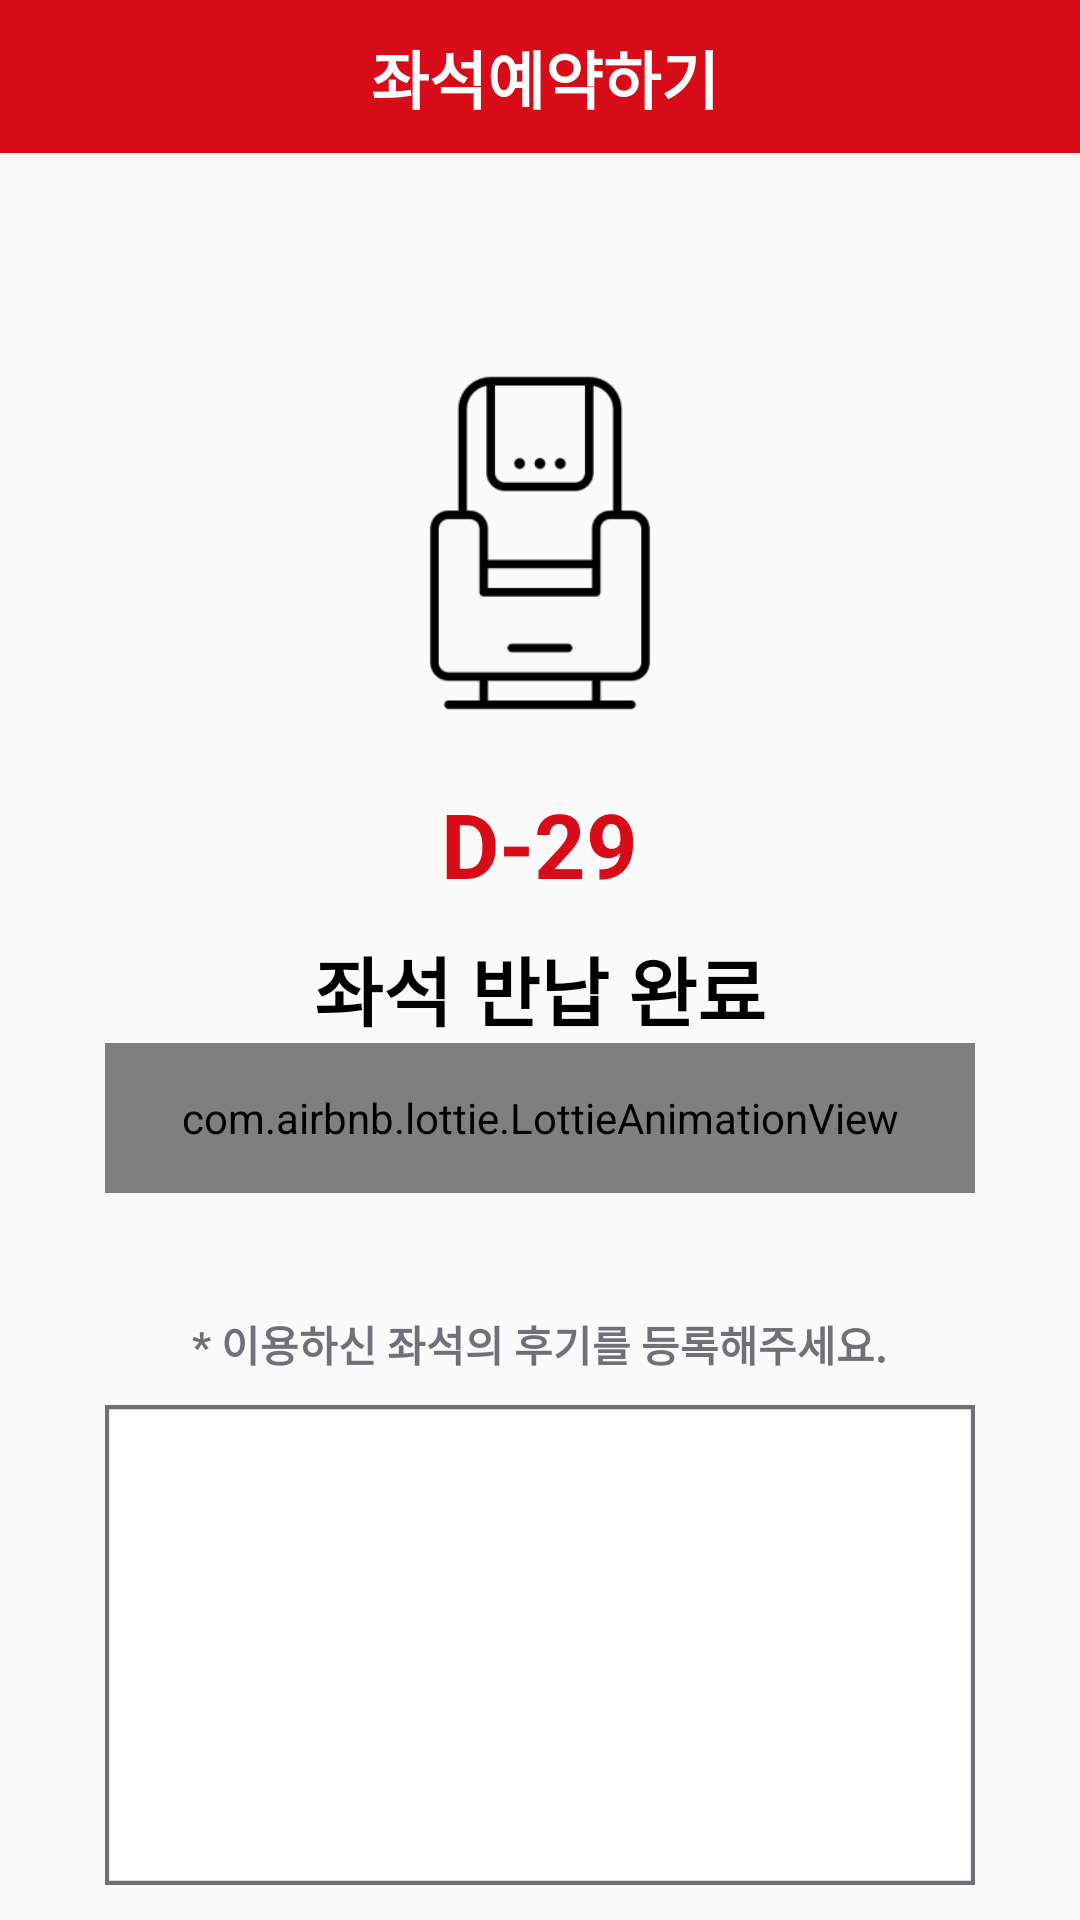

Screen size 1080px×1920px. Icon name, then its box in pixels as (x1, y1, x2, y2):
seat: (430, 376, 650, 710)
